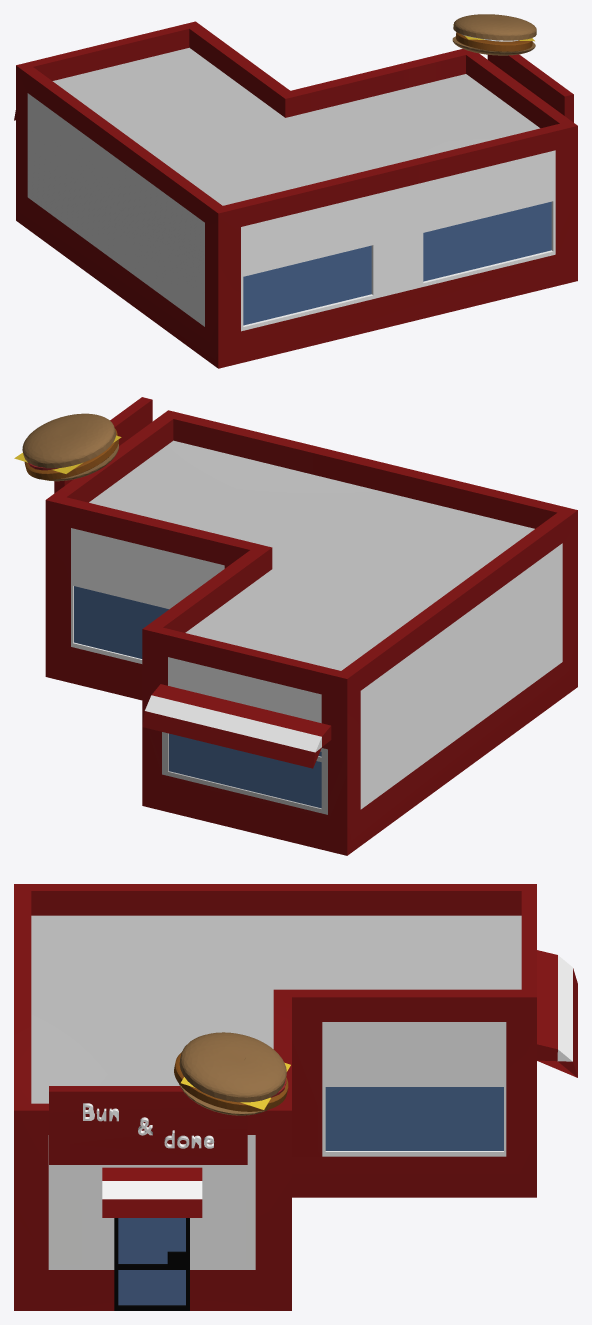
The model's file is BurgerShot.fbx.
The picture shows the model from 3 angles, top to bottom: view 1: azimuth 30°, elevation 25°; view 2: azimuth 150°, elevation 25°; view 3: azimuth 270°, elevation 25°; orthographic projection. The views are drawn at different scales.
Parts seen in each view (by area): view 1: Building_Burger; view 2: Building_Burger; view 3: Building_Burger.
Part boxes in pixels (box(x1,y1,x2,y2)): Building_Burger: box(14, 14, 577, 368); Building_Burger: box(14, 397, 577, 855); Building_Burger: box(14, 884, 577, 1310).
Bounding box in the file's own units: 20.53 × 10.02 × 19.5.
Materials: 1 (1 with a texture image).
